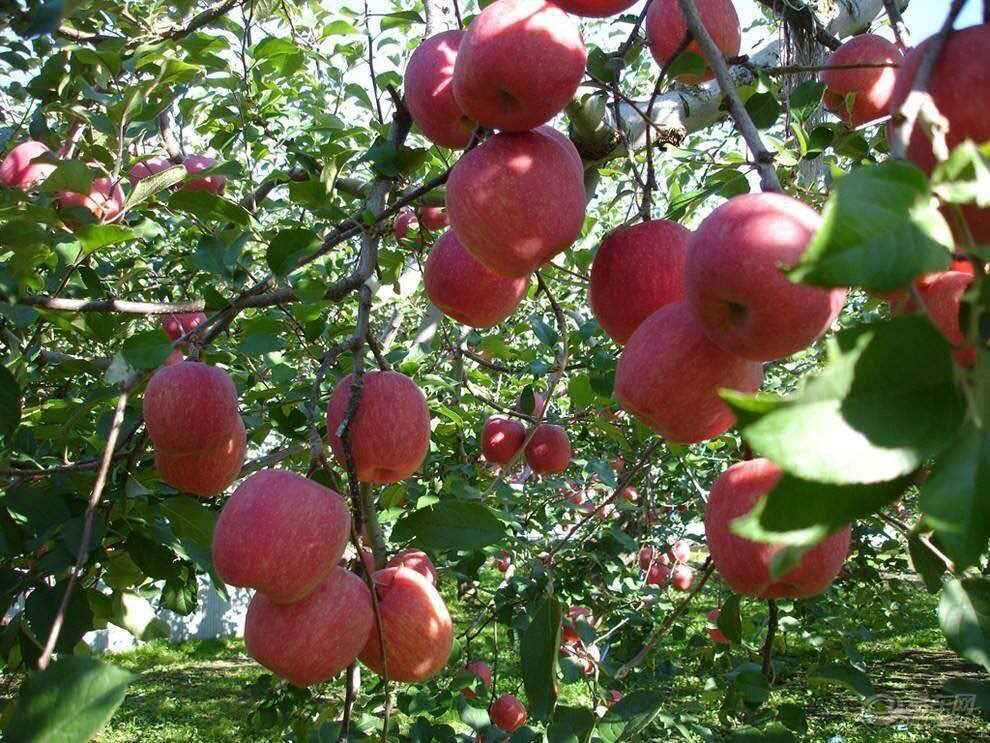apple: (696, 190, 844, 362), (702, 461, 857, 600), (612, 306, 766, 443), (447, 124, 582, 271), (209, 471, 345, 605), (459, 1, 591, 137), (245, 562, 376, 686), (589, 213, 698, 349), (330, 369, 432, 484), (363, 558, 454, 683), (425, 229, 531, 329), (140, 358, 244, 455), (404, 34, 483, 150), (643, 1, 744, 86), (818, 33, 908, 126), (525, 423, 573, 473), (1, 140, 51, 187), (481, 415, 526, 464), (490, 693, 528, 731)
